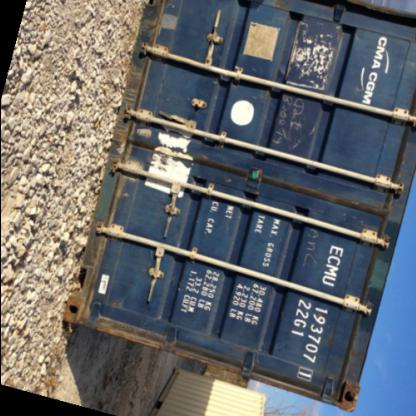Damage: (266, 87, 325, 155), (288, 19, 340, 85), (94, 314, 170, 354), (109, 118, 145, 196), (357, 246, 381, 298), (334, 370, 358, 410), (352, 23, 372, 45)
